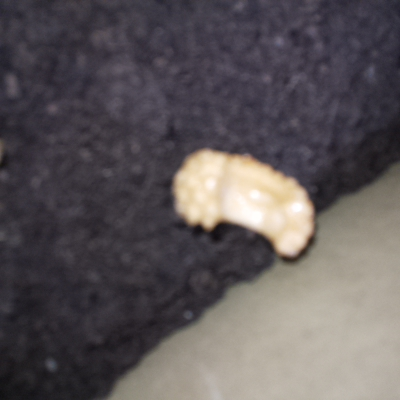eggs: (162, 140, 329, 263)
